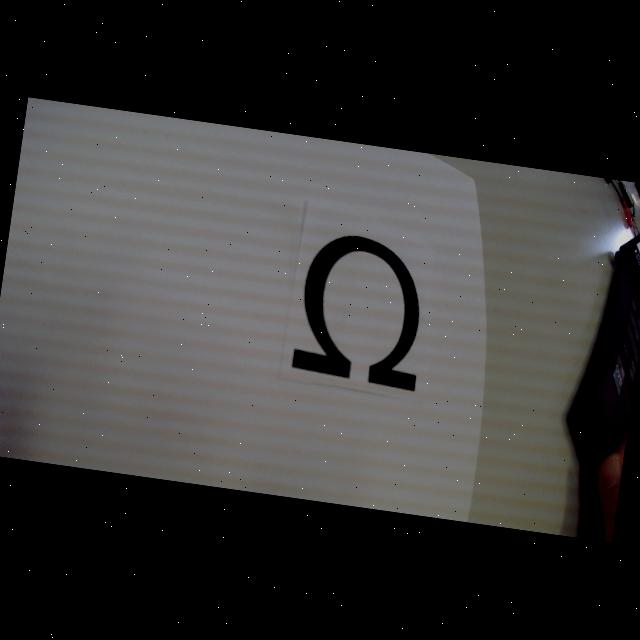OMEGA: (290, 230, 435, 392)
